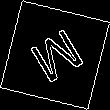M_SE: (22, 21, 88, 89)
